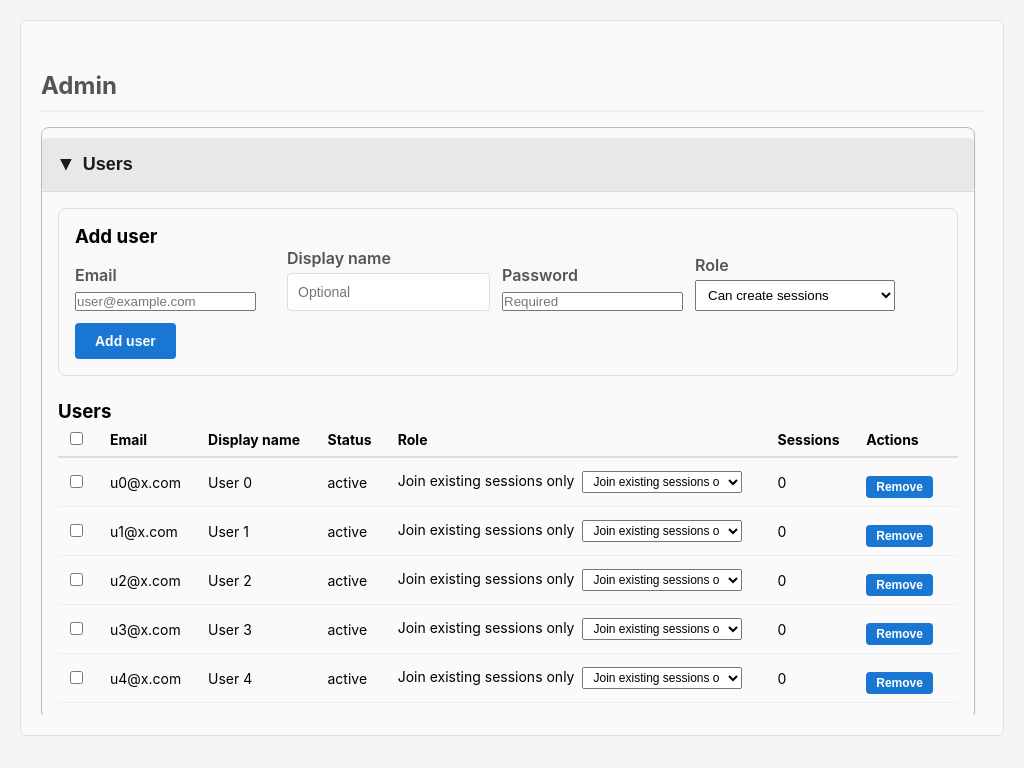
Test: Type-to-confirm for large bulk deletes (SCRUM-584) › does not require type-to-confirm at or below the threshold
Step 1. Click the checkbox named "Select all users" → click(76, 438), box [70,432,83,445]
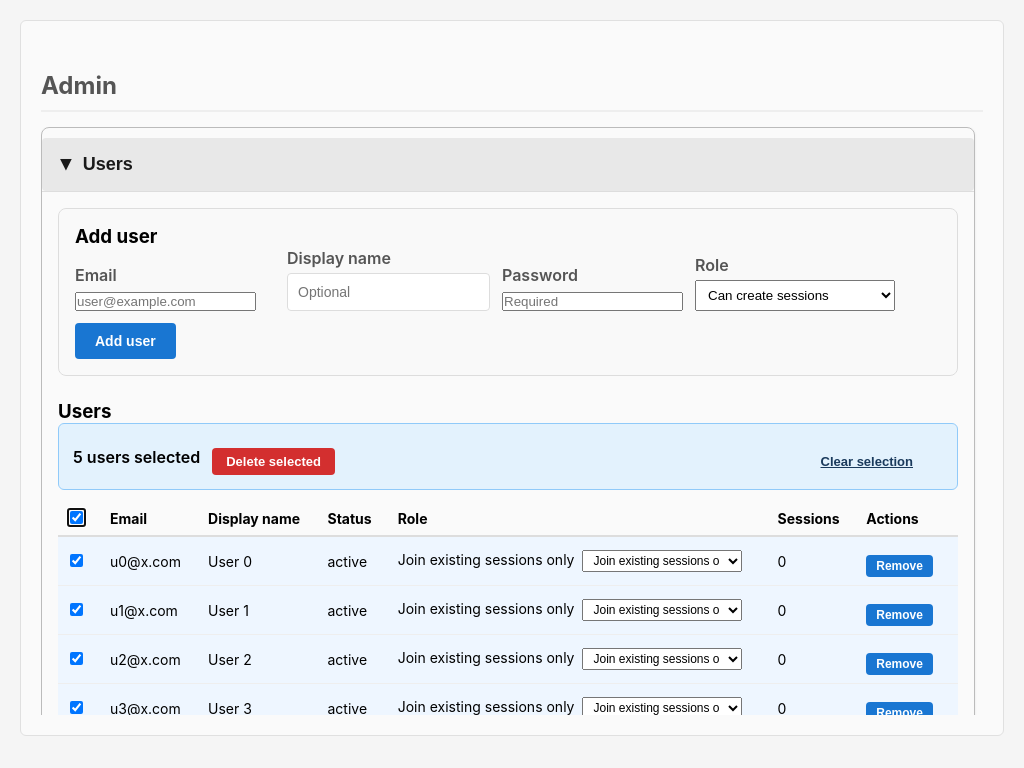
Step 2. Click the button "Delete selected" → click(274, 462), box [212,448,335,475]
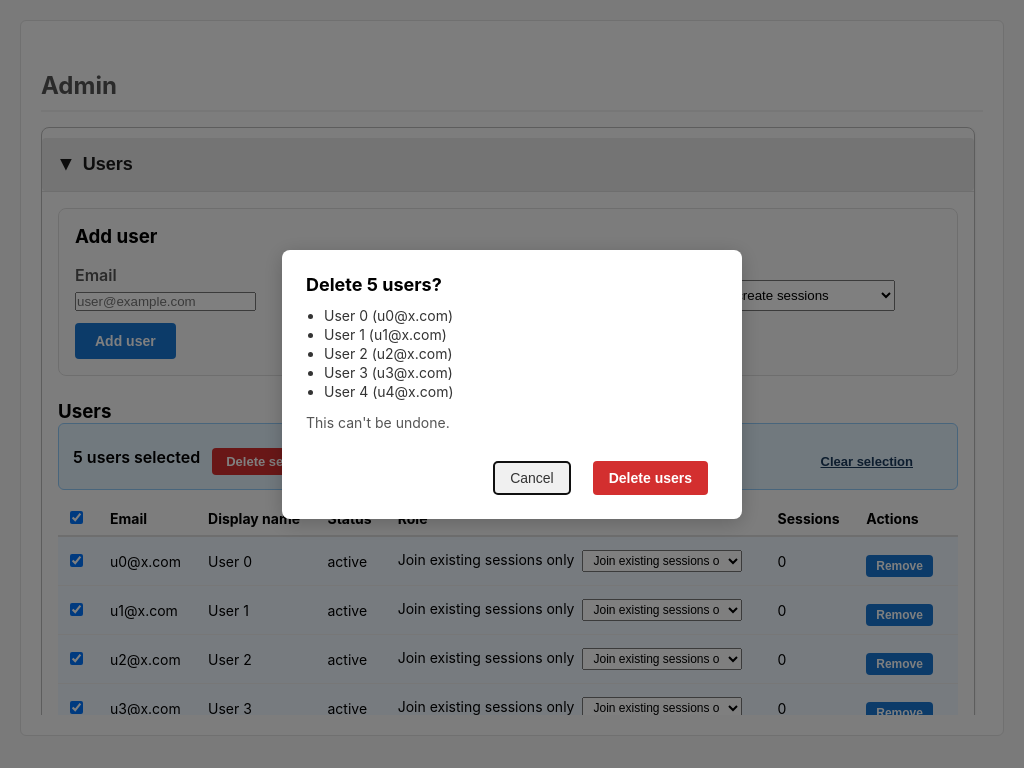
Expected: the button "Delete users" is enabled, [593,460,708,494]
